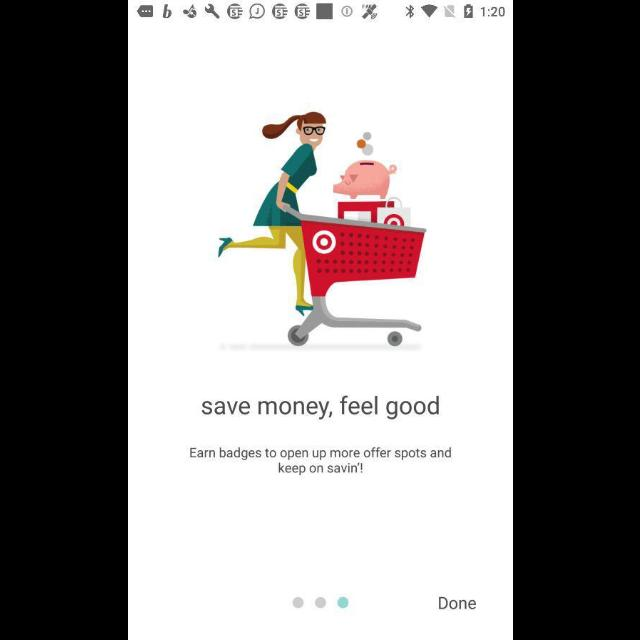image: (217, 110, 428, 348)
pageindicator: (292, 597, 348, 609)
text: (189, 446, 451, 476), (200, 395, 440, 421), (438, 597, 476, 609)
uppertaskbar: (128, 2, 512, 20)
